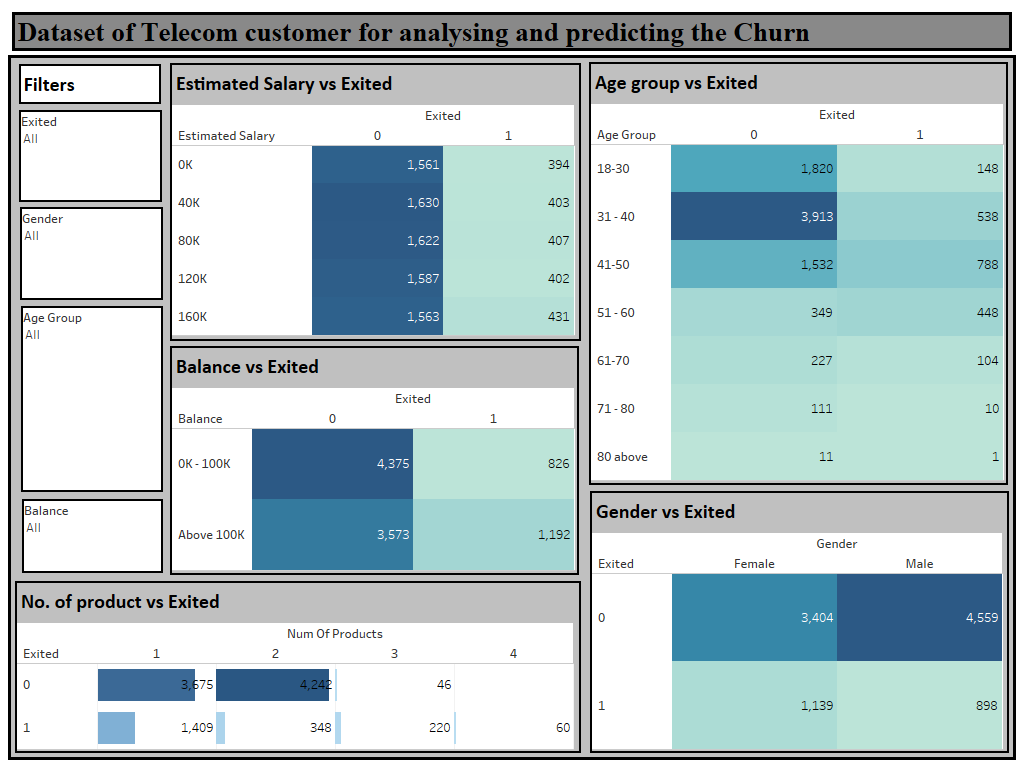

The dashboard page shown, as its layout file describes it:
{"tool":"tableau","page":{"name":"Dashboard 1","canvas":[1024,768],"ordinal":0},"visuals":[{"type":"title","box":[8,8,1008,47]},{"type":"worksheet","title":"Age group vs Exited","mark":"Automatic","cols":["Exited"],"box":[589,62,419,423]},{"type":"worksheet","title":"Estimated Salary vs Exited","mark":"Square","rows":["Estimated Salary (bin)"],"cols":["Exited"],"box":[170,63,411,278]},{"type":"text","box":[19,64,142,40]},{"type":"filter","title":"Estimated Salary vs Exited","param":"[federated.0fe54pm0rlxfta14hxujr1i74hqx].[none:Exited:ok]","box":[19,110,143,92]},{"type":"filter","title":"Gender vs Exited","param":"[federated.0fe54pm0rlxfta14hxujr1i74hqx].[none:Gender:nk]","box":[20,207,143,93]},{"type":"filter","title":"Age group vs Exited","param":"[federated.0fe54pm0rlxfta14hxujr1i74hqx].[Age (group)]","box":[21,306,142,186]},{"type":"worksheet","title":"Balance vs Exited","mark":"Square","rows":["Balance (bin)"],"cols":["Exited"],"box":[170,346,409,229]},{"type":"worksheet","title":"Gender vs Exited","mark":"Automatic","rows":["Exited"],"cols":["Gender"],"box":[590,491,419,262]},{"type":"filter","title":"Balance vs Exited","param":"[federated.0fe54pm0rlxfta14hxujr1i74hqx].[none:Balance (bin):ok]","box":[22,499,141,74]},{"type":"worksheet","title":"N0. of product vs Exited","mark":"Bar","rows":["Exited"],"cols":["NumOfProducts"],"box":[15,581,566,172]}]}

Visuals, with their boxes in screenshot pixels (x1, y1, x2, y2), scaled from the page's 1024x768 canvas onto the 1024x768 screenshot:
title: <box>8,8,1016,55</box>
"Age group vs Exited" worksheet: <box>589,62,1008,485</box>
"Estimated Salary vs Exited" worksheet (Square marks): <box>170,63,581,341</box>
text: <box>19,64,161,104</box>
"Estimated Salary vs Exited" filter: <box>19,110,162,202</box>
"Gender vs Exited" filter: <box>20,207,163,300</box>
"Age group vs Exited" filter: <box>21,306,163,492</box>
"Balance vs Exited" worksheet (Square marks): <box>170,346,579,575</box>
"Gender vs Exited" worksheet: <box>590,491,1009,753</box>
"Balance vs Exited" filter: <box>22,499,163,573</box>
"N0. of product vs Exited" worksheet (Bar marks): <box>15,581,581,753</box>
